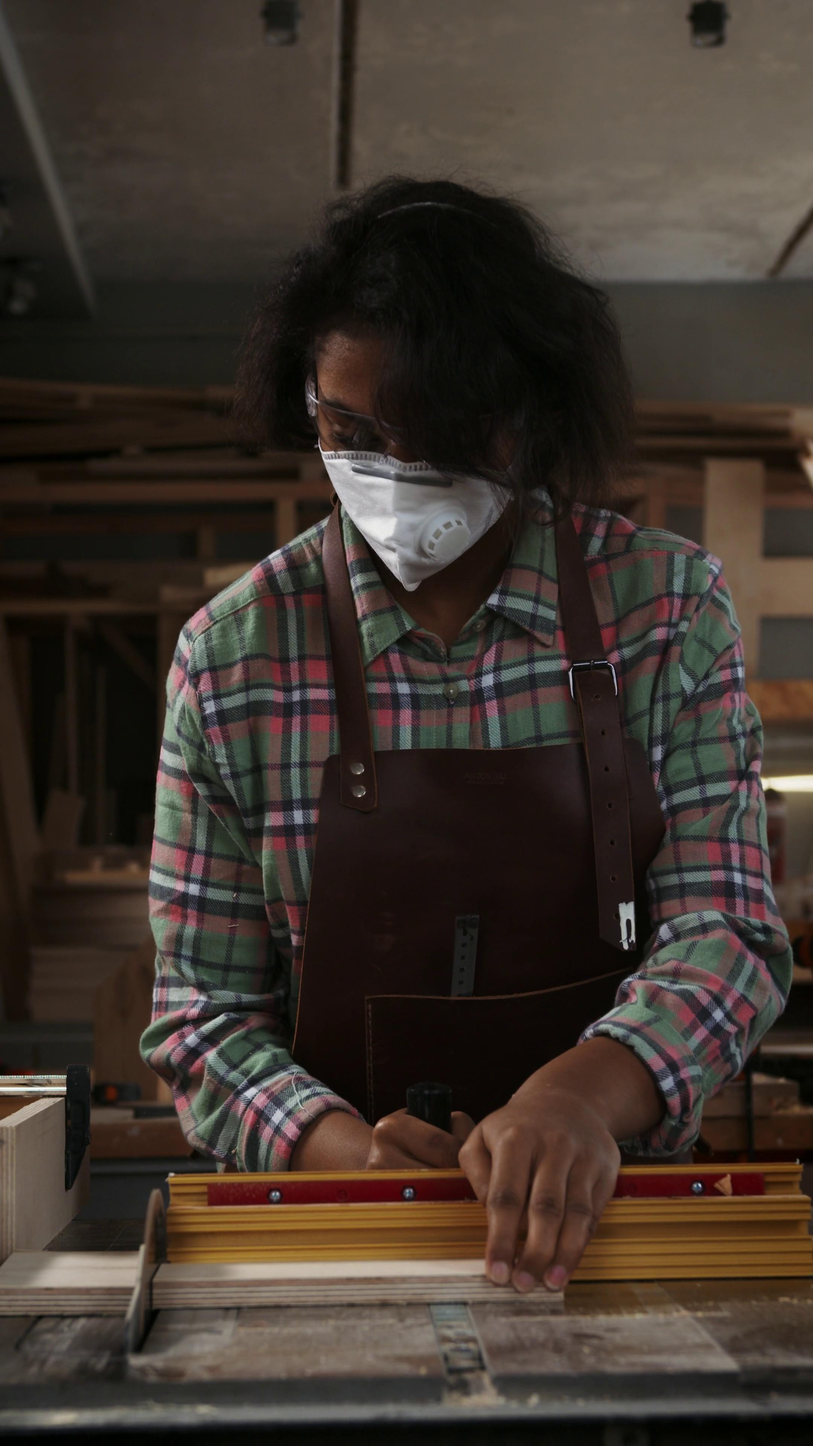mask: (318, 446, 515, 592)
person: (138, 176, 795, 1296)
